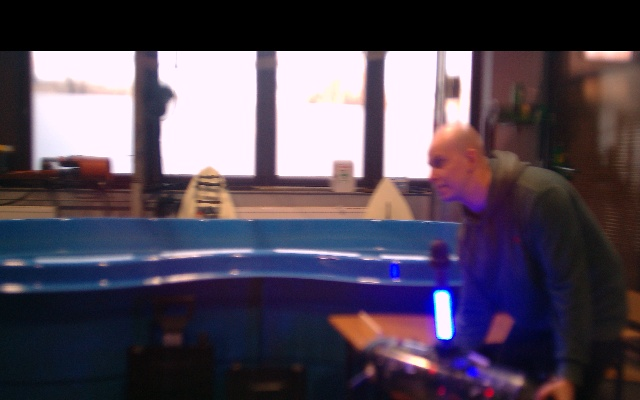blue: (434, 290, 453, 341)
